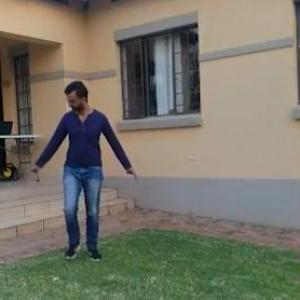land: (20, 70, 146, 275)
